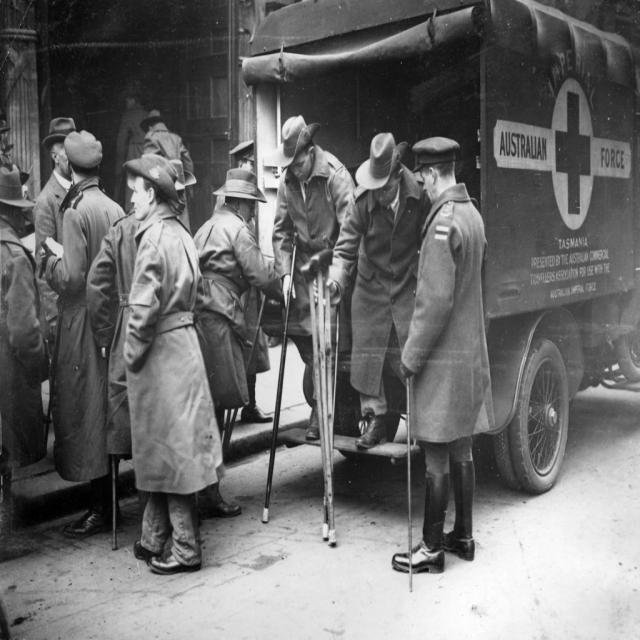Ambulance: (241, 0, 639, 490)
